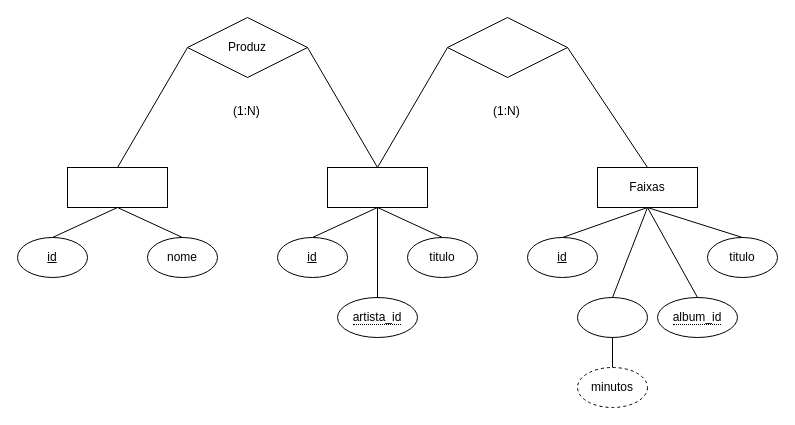
Image size: 795x425. Some labels were removed from this diagram. The shapes that lost their labels are listed below. From the top down, each one's centre as x and y in pixels, then its label:
At [507,47]: "Tem".
At [117,187]: "Artista".
At [377,187]: "Album".
At [612,317]: "duracao".
